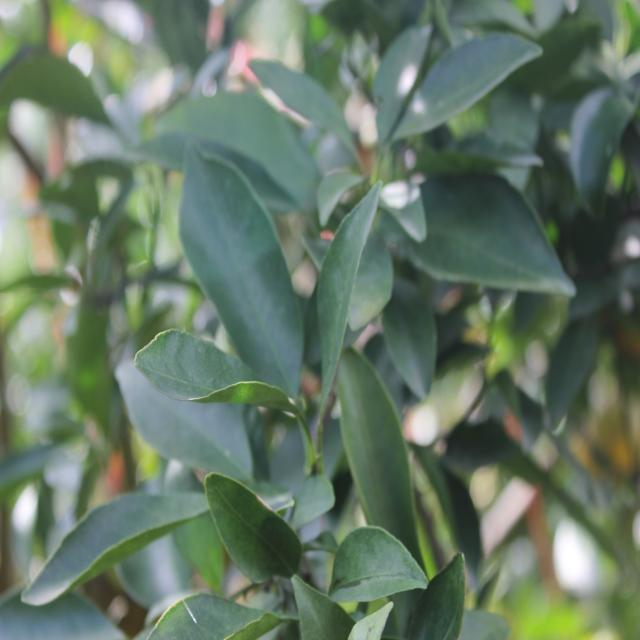healthy: (179, 146, 303, 386), (400, 166, 578, 298), (19, 487, 202, 604), (387, 39, 544, 148), (335, 339, 417, 540), (308, 183, 380, 392), (206, 476, 300, 579)
